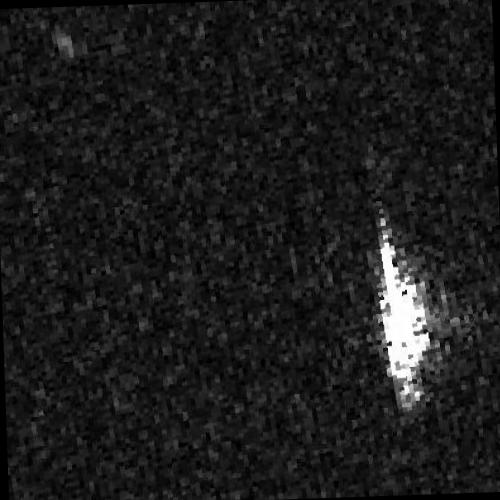ship: (376, 214, 430, 411)
